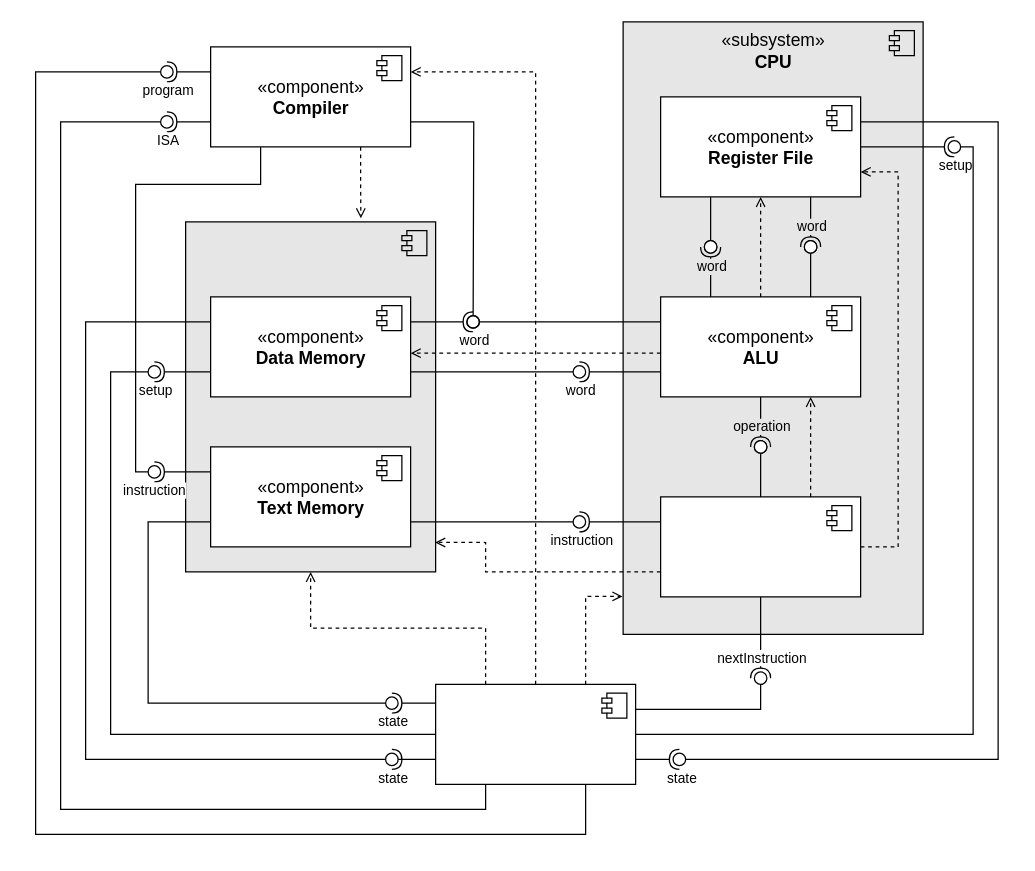
Image size: 1035x871. Some labels were removed from this diagram. The box of each missing label's shape, as (x1, y1, x2, y2) in pixels:
«component» CLI: (434, 683, 636, 784)
«component» Interpreter: (659, 496, 861, 597)
«subsystem» Memory: (184, 221, 436, 572)
